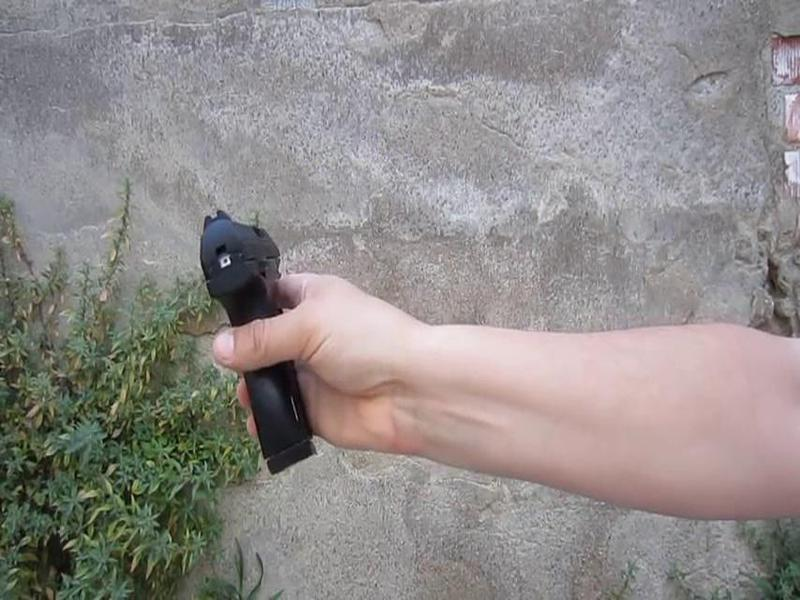Pistola: (175, 189, 329, 483)
